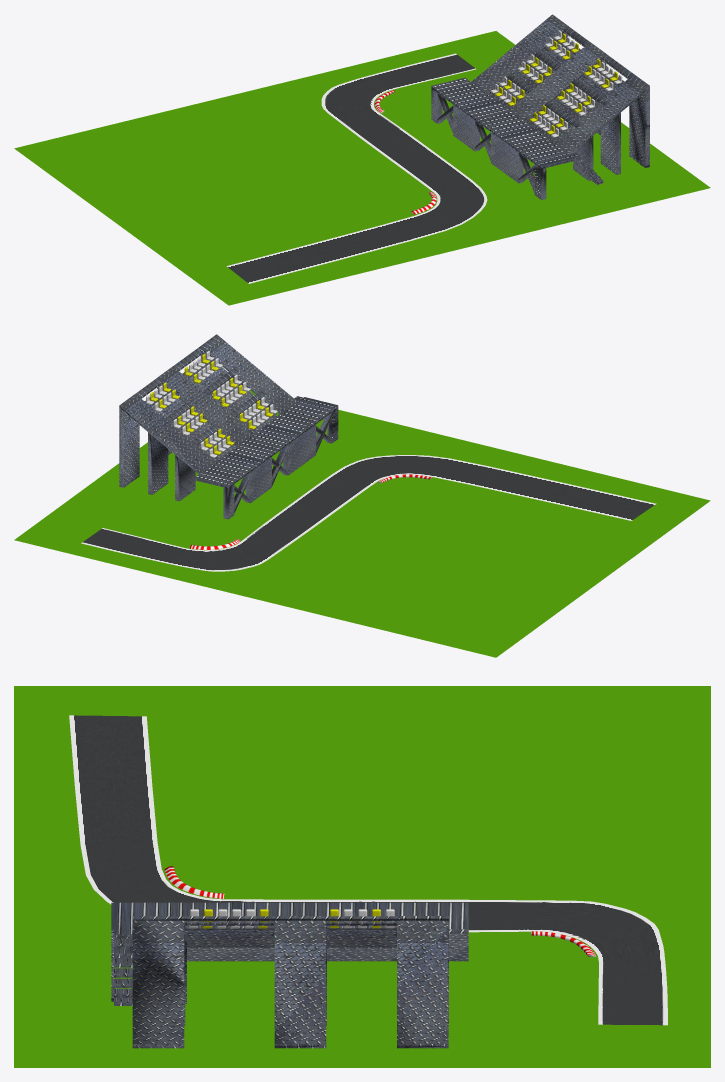
Rendered from pistaCOLOR.fbx.
The picture shows the model from 3 angles, top to bottom: view 1: azimuth 30°, elevation 25°; view 2: azimuth 150°, elevation 25°; view 3: azimuth 270°, elevation 25°; orthographic projection. The views are drawn at different scales.
Visible parts, largest first — view 1: Plane, Cube_003, Cube; view 2: Plane, Cube_003, Cube; view 3: Plane, Cube_003, Cube.
Boxes of the visible parts, x1,y1,x2,y2 form: Plane: (14, 31, 710, 305); Cube_003: (431, 14, 649, 199); Cube: (226, 53, 487, 283); Plane: (14, 390, 710, 657); Cube_003: (119, 334, 338, 519); Cube: (81, 455, 656, 571); Plane: (14, 686, 710, 1067); Cube_003: (111, 902, 468, 1048); Cube: (69, 715, 667, 1025).
Size of the model in its own units: 23.27 by 3.77 by 17.95.
